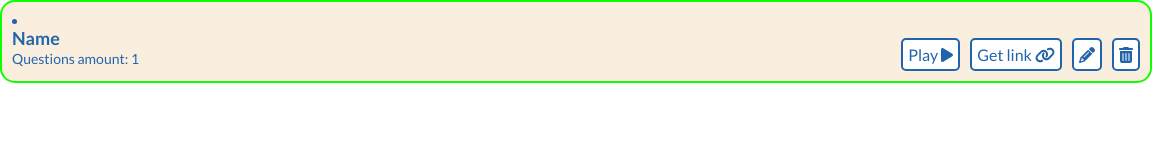
quizItem with different props › should open link
The width and height of the screenshot is (1152, 160).
Step 1. Click the button with test id "open-link-btn" → (1016,54), box [970,38,1062,71]
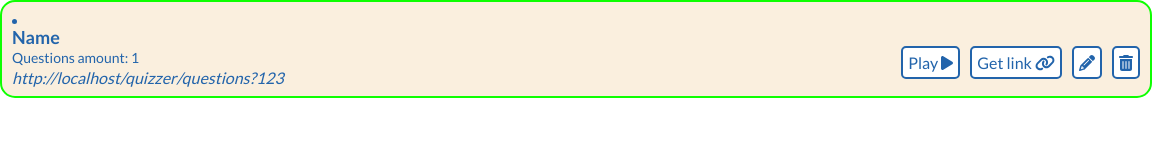
expect the text with test id "quiz-link" is shown: met, box [12,70,284,86]
